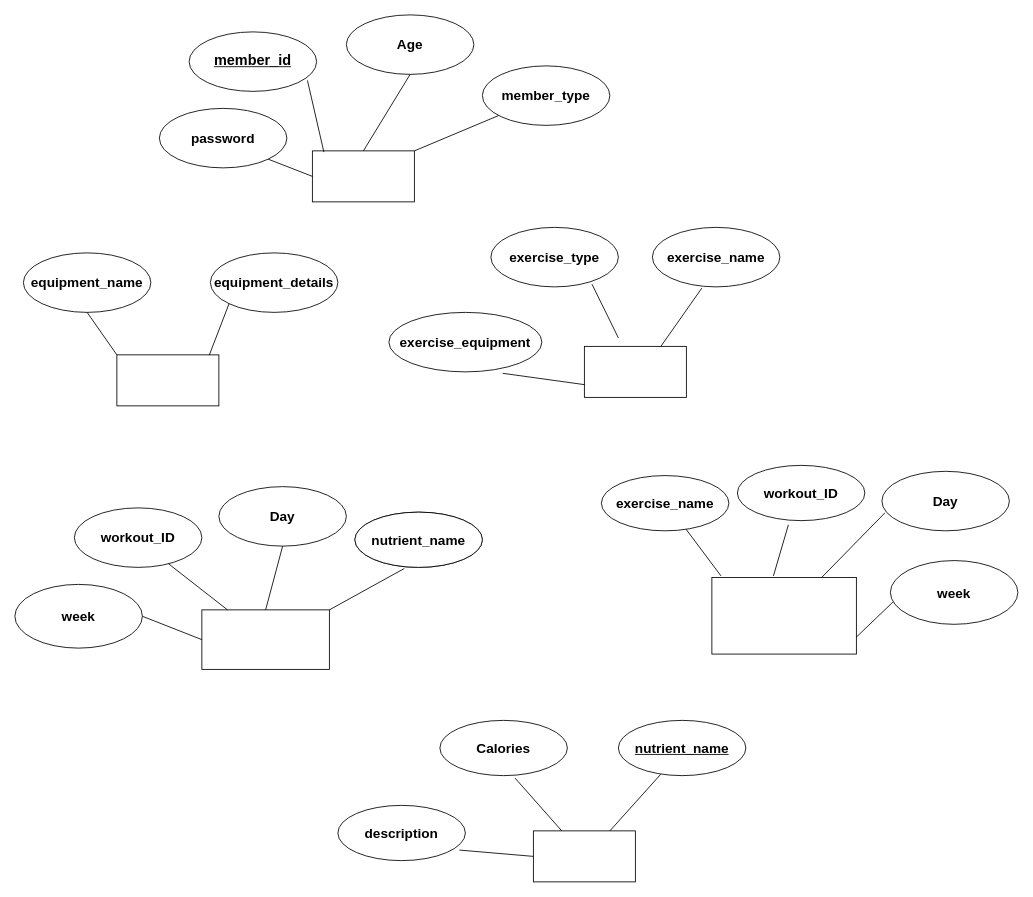
The diagram is 1033 pixels wide and 897 high, and some of its shapes have lost their labels. Here are the shapes that lost their labels. From the top down, the centre of each, then its label:
pixel 363 176: Member
pixel 167 380: equipment
pixel 635 371: Exercise
pixel 783 615: workout_exercise
pixel 265 639: Workout_nutrient
pixel 584 856: Nutrition
